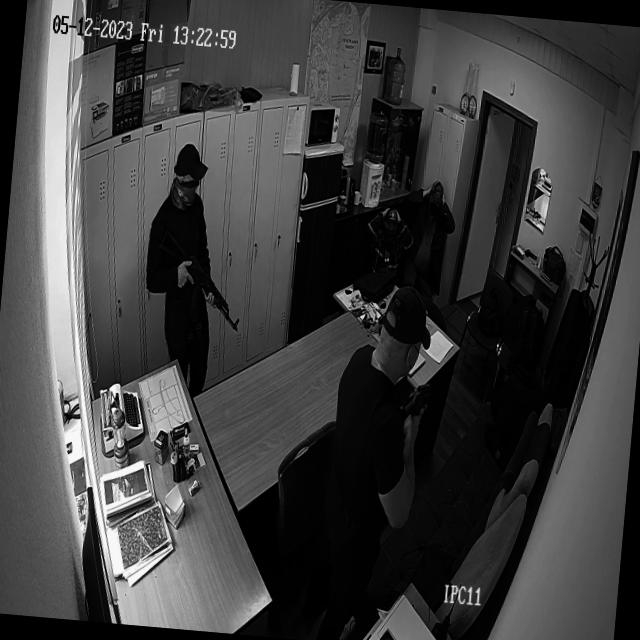gun: (177, 223, 248, 333), (396, 368, 435, 426)
person: (416, 180, 450, 286), (369, 200, 408, 281)
person with a gun: (329, 259, 443, 632), (132, 123, 230, 405)
